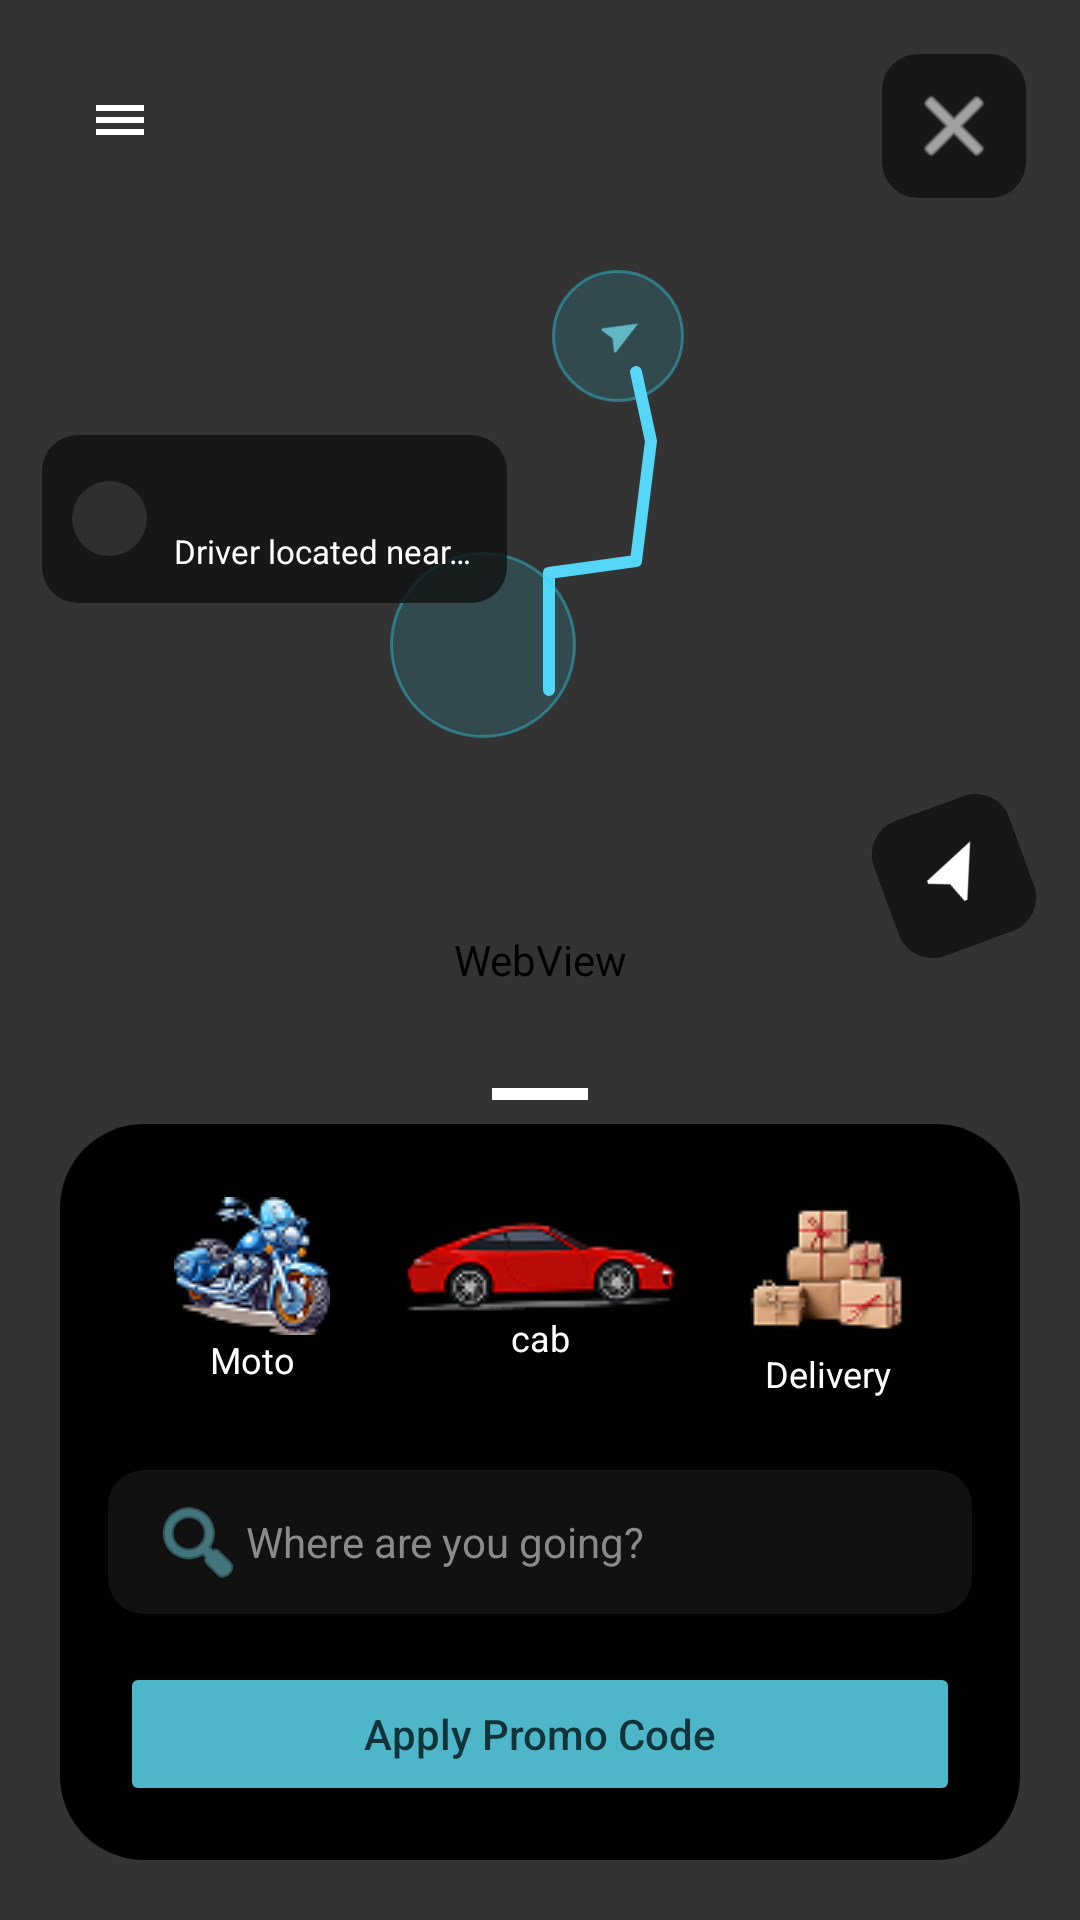

Screen size 1080*1920. Icon name, then its center in pixels as (x=x, y=y):
Close: (x=954, y=126)
Menu: (x=120, y=120)
